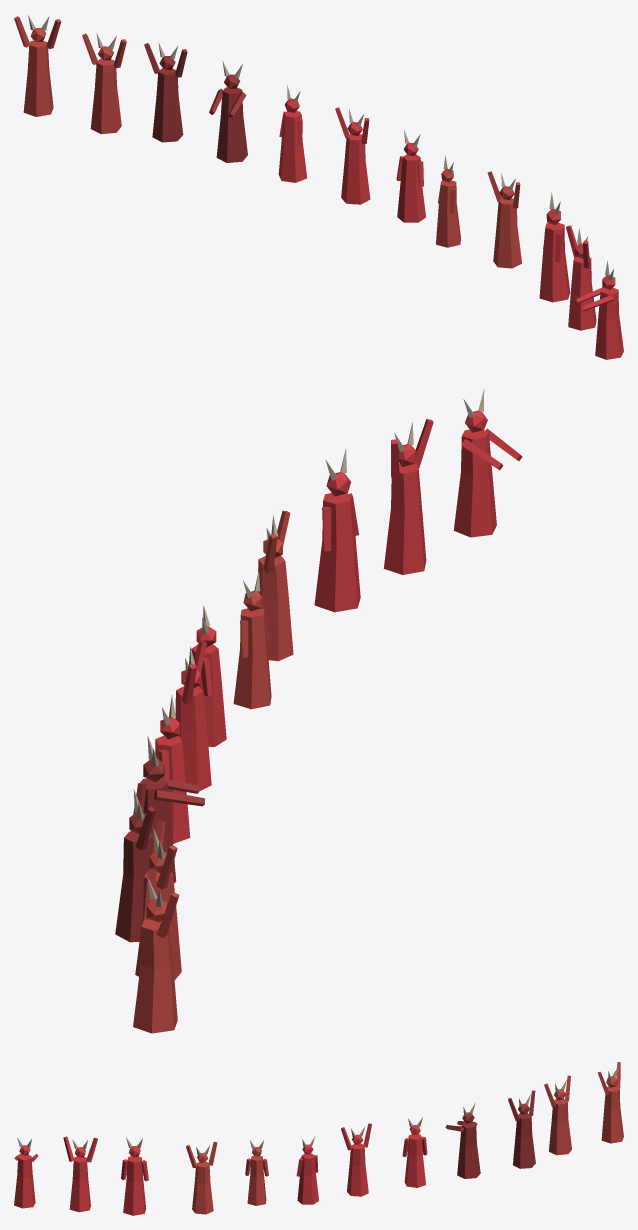
Rendered from Stands_8_1_1.obj.
3 views of the same model, one above another, from view 1: azimuth 30°, elevation 25°; view 2: azimuth 150°, elevation 25°; view 3: azimuth 270°, elevation 25° (orthographic). The views are drawn at different scales.
Parts seen in each view (by area): view 1: Stands_8_1_1; view 2: Stands_8_1_1; view 3: Stands_8_1_1.
Part boxes in pixels (left/top/right/bottom): Stands_8_1_1: left=14, top=15, right=623, bottom=359; Stands_8_1_1: left=115, top=389, right=522, bottom=1033; Stands_8_1_1: left=14, top=1062, right=623, bottom=1215.
Bounding box in the file's own units: 10.4 × 4.26 × 31.7.
1 material, 1 textured.
